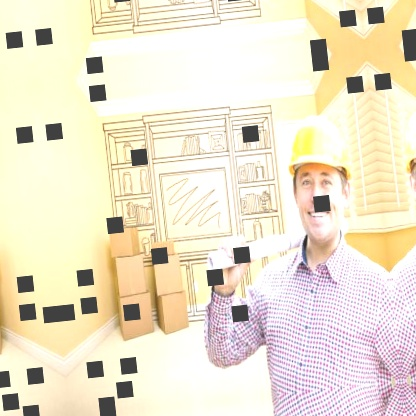yellow: (278, 108, 357, 191)
